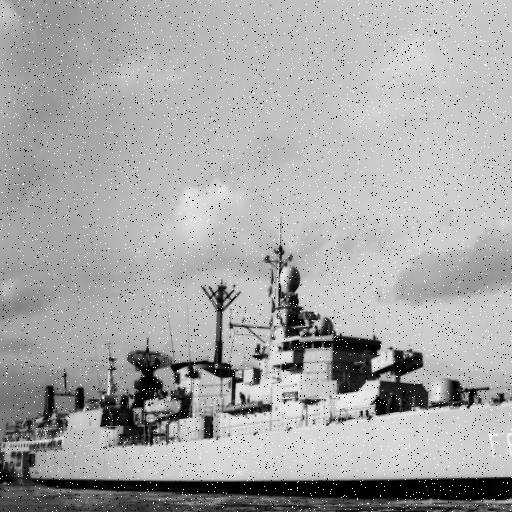Fragata: (3, 218, 512, 505)
